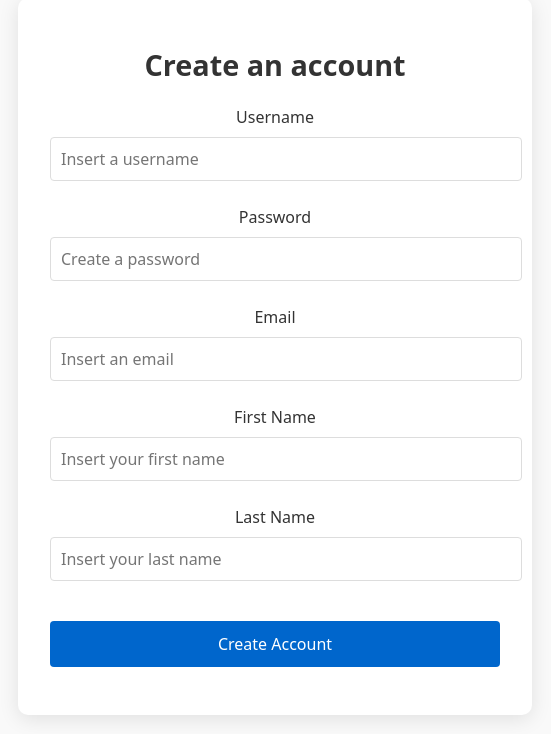
Register Component › handles server error during registration
Fill out the form
Type "existinguser" into the field labelled "Username". click: (286, 159)
box: [50,137,522,181]
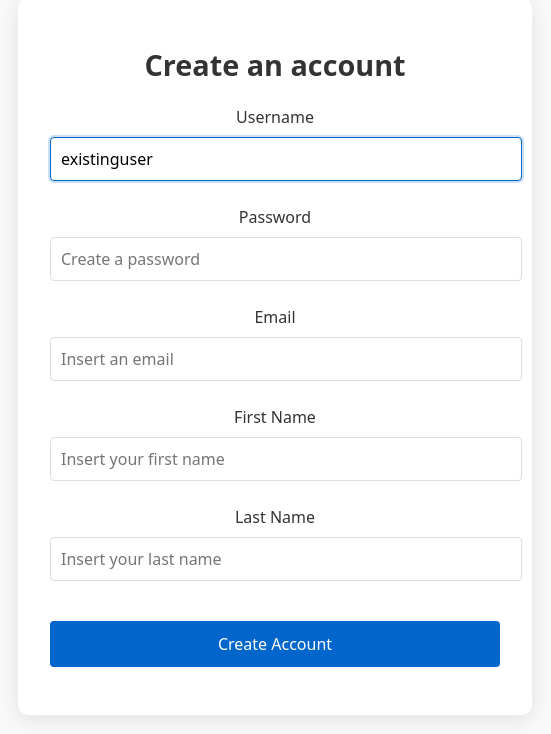
Type "password123" into the password field labelled "Password". click: (286, 259)
box: [50,237,522,281]
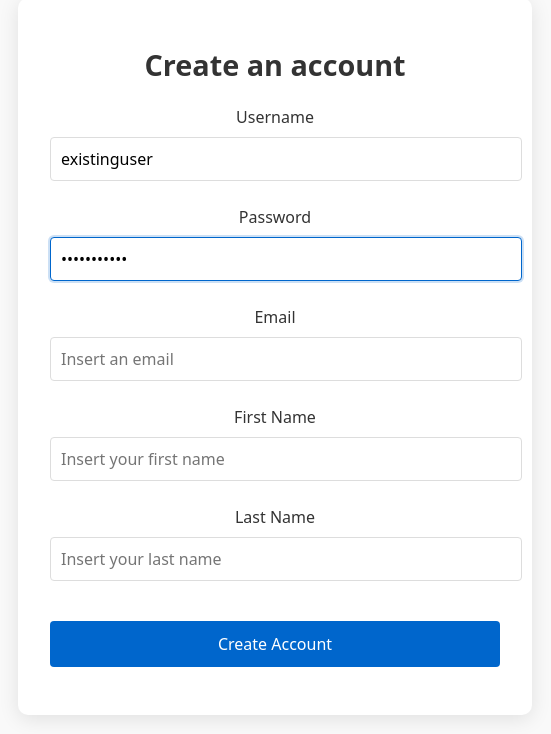
Type "test@example.com" into the field labelled "Email". click: (286, 359)
box: [50,337,522,381]
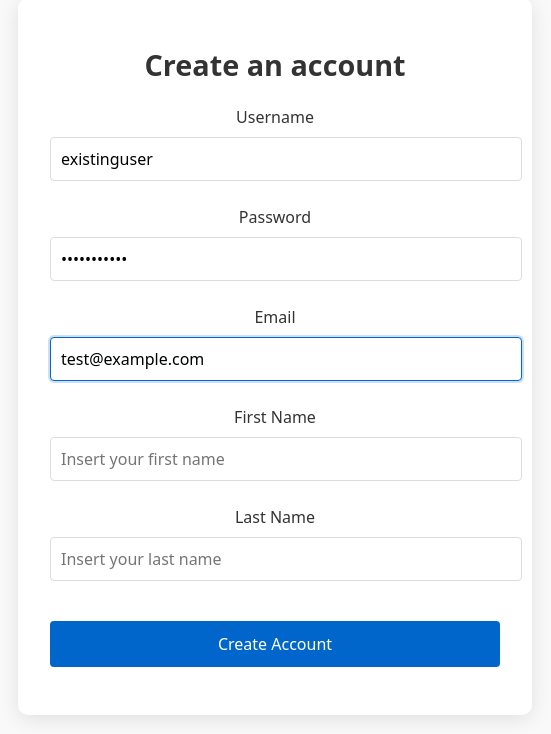
Type "John" into the field labelled "First Name". click: (286, 459)
box: [50,437,522,481]
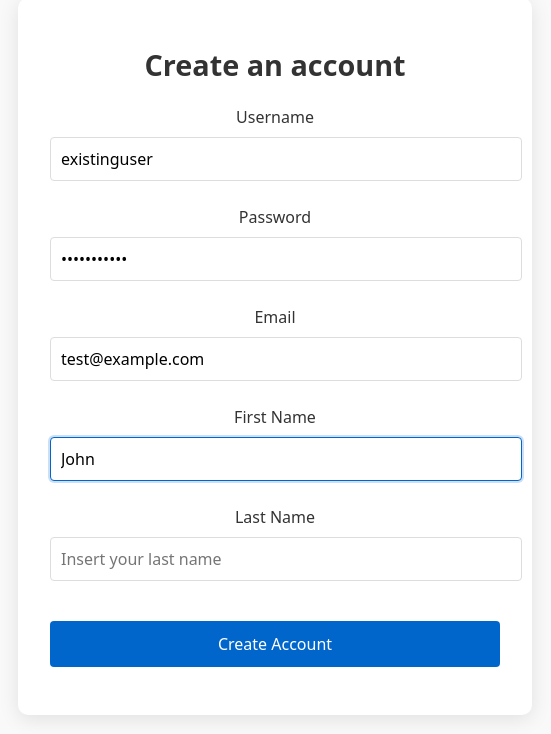
Type "Doe" into the field labelled "Last Name". click: (286, 559)
box: [50,537,522,581]
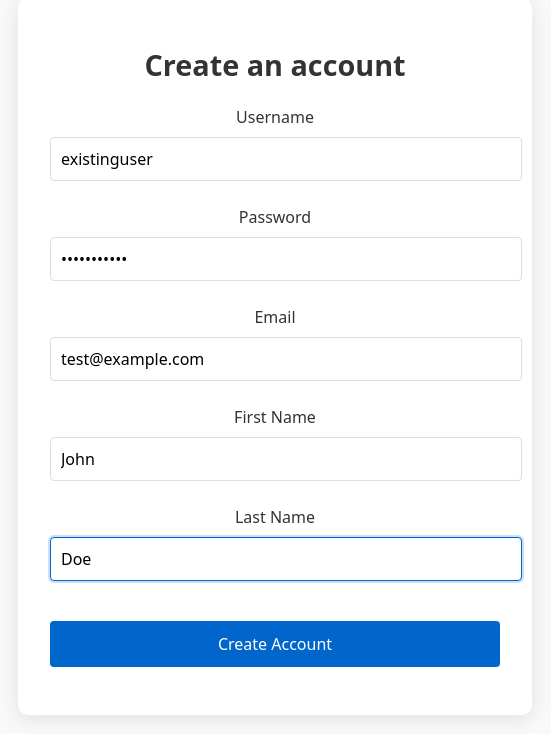
Submit the form
Click the button "Create Account". click: (275, 644)
box: [50,621,500,667]
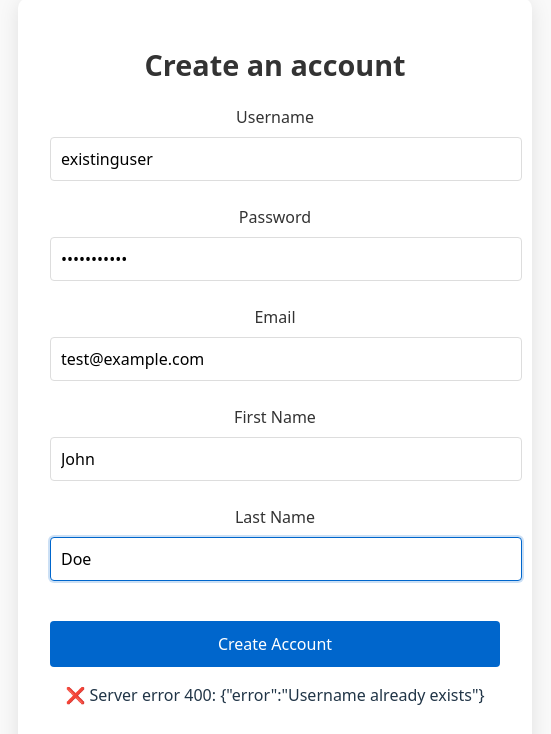
expect the text "❌ Server error 400: {\"error\":\"Username already exists\"}" is shown: met, box [50,683,500,707]
